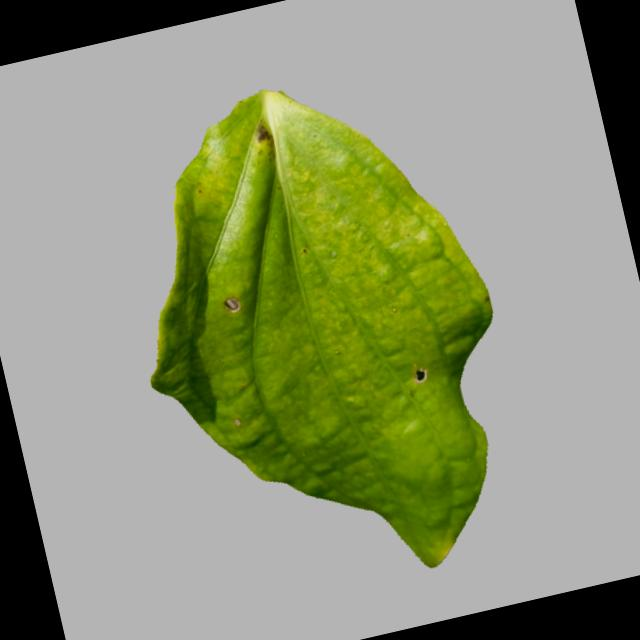yellow-mottle-virus: (61, 54, 566, 631)
